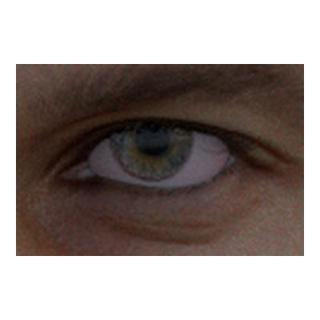pupil: (137, 122, 169, 154)
